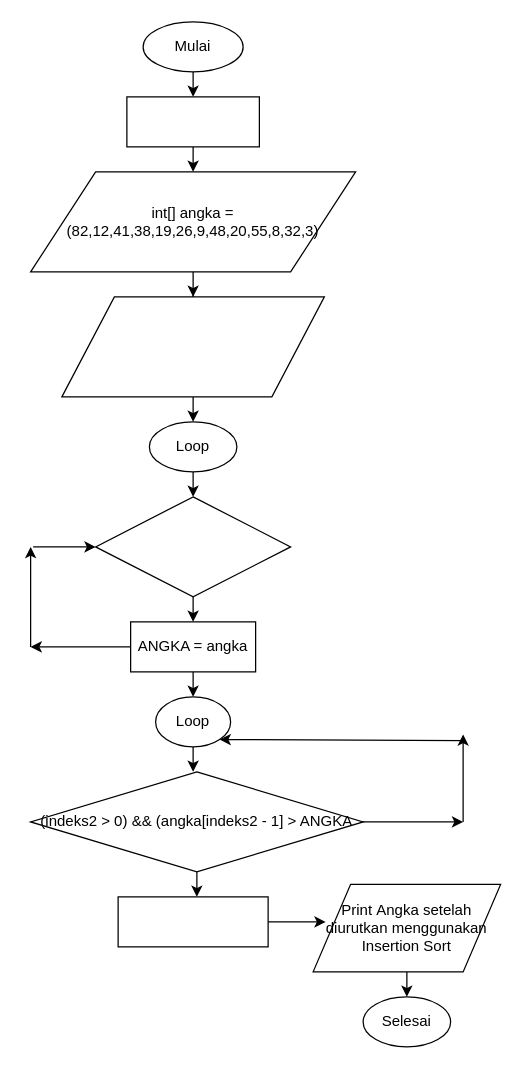
The diagram is 523 pixels wide and 1069 high, and some of its shapes have lost their labels. Each missing label, with the centre of its shape:
indeks = 1; indeks < angka.length; indeks++: the point at 192,546
indeks2 = indeks2 - 1: the point at 192,921
int indeks, indeks2, ANGKA: the point at 192,121
Print Angka sebelum diurutkan menggunakan Insertion Sort: the point at 192,346
